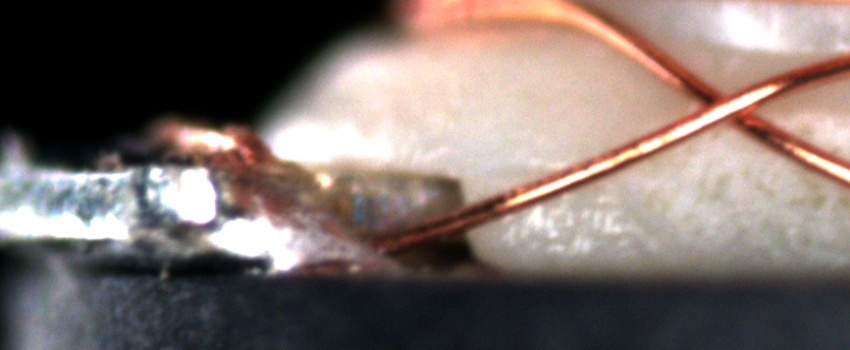CL: (675, 70, 777, 139)
TE: (156, 113, 279, 169)
